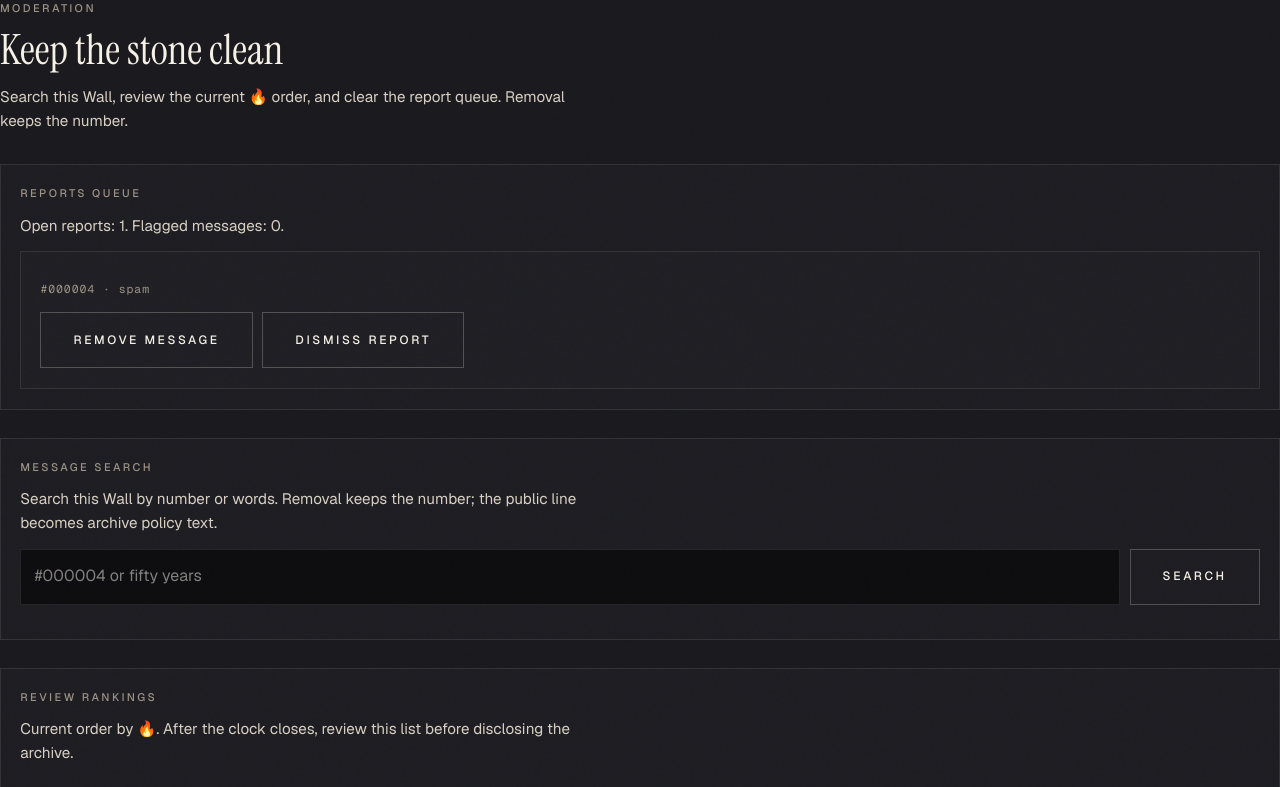
Test: admin dashboard › requires confirmation before a removal can be submitted
Click the button "Remove message" at (147, 340), box [40,312,253,368]
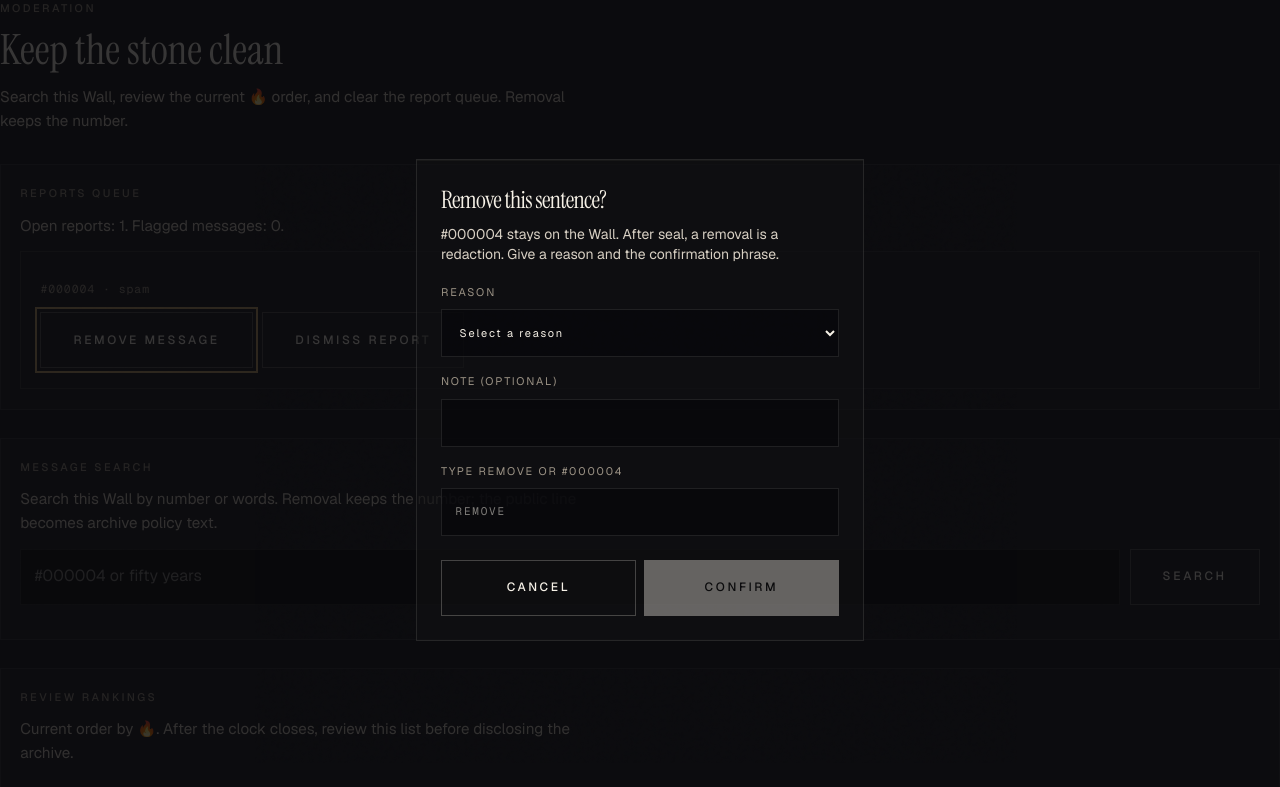
Now the dialog is shown, box [416,159,864,640]
Now the button "Confirm" is disabled, box [644,560,839,616]
